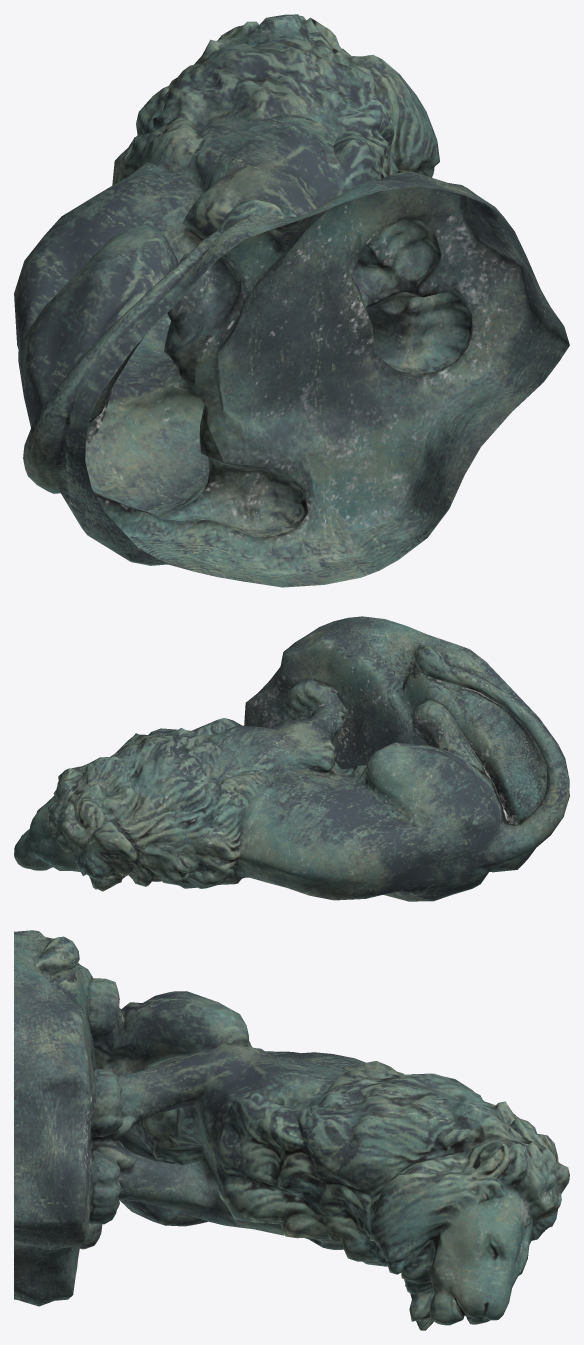
Rendered from Lion.fbx.
3 views of the same model, one above another, from view 1: azimuth 30°, elevation 25°; view 2: azimuth 150°, elevation 25°; view 3: azimuth 270°, elevation 25° (orthographic). The views are drawn at different scales.
Parts seen in each view (by area): view 1: Lion; view 2: Lion; view 3: Lion.
Boxes of the visible parts, <box> form: Lion: <box>14,14,569,587</box>; Lion: <box>14,616,569,901</box>; Lion: <box>14,930,569,1330</box>.
Bounding box in the file's own units: 325 × 187 × 291.
